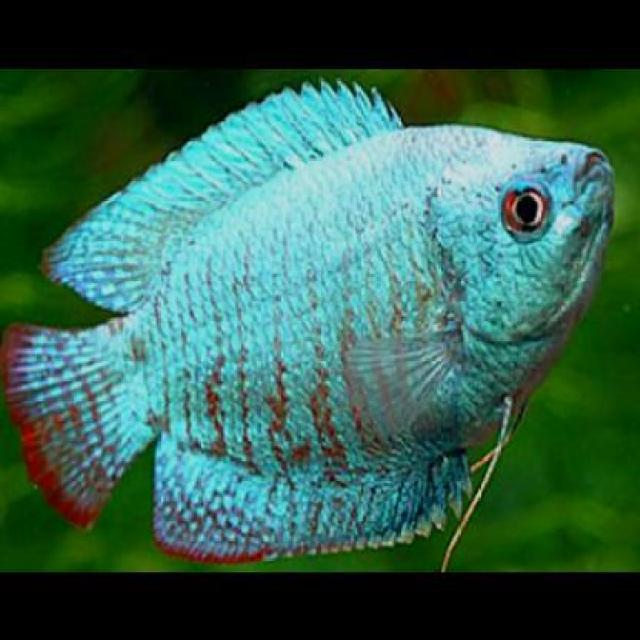Gourami: (1, 68, 617, 572)
